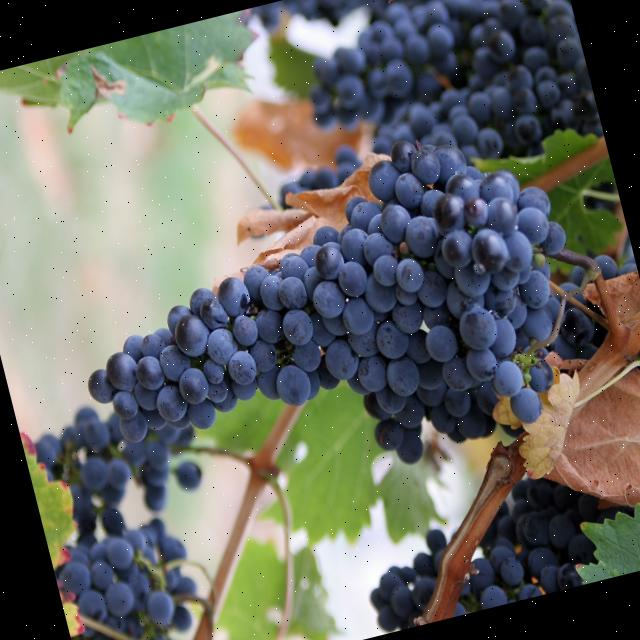grape: (35, 0, 640, 640), (88, 140, 574, 462), (262, 0, 603, 162), (34, 406, 201, 640), (0, 11, 251, 125), (455, 477, 606, 614), (370, 529, 446, 630), (314, 0, 359, 17)
